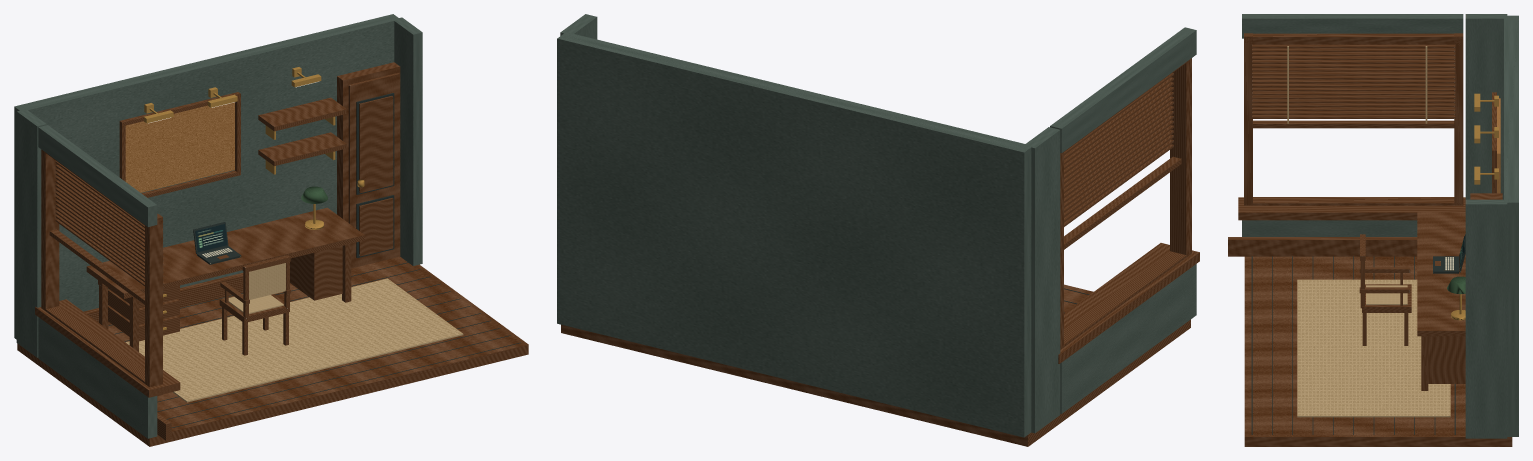
The model's file is workspace-night.glb.
3 views of the same model, side by side, from view 1: azimuth 30°, elevation 25°; view 2: azimuth 150°, elevation 25°; view 3: azimuth 270°, elevation 25° (orthographic). The views are drawn at different scales.
Parts seen in each view (by area): view 1: room_back_wall, room_floor, woven_rug, corkboard_back, desk_top, room_side_pier_-2.38, room_side_pier_2.38, window_wall_lower, door_leaf, window_wall_header, door_panel_1.46, window_jamb_2.73 (+21 smaller); view 2: room_back_wall, room_side_pier_-2.38, window_wall_lower, room_floor, window_wall_header, window_jamb_2.73, window_sill, window_frame_0.58, window_mullion, window_jamb_0.45; view 3: room_floor, woven_rug, room_side_pier_2.38, room_side_pier_-2.38, room_back_wall, desk_top, window_wall_header, side_skirting, window_sill, window_wall_lower, window_frame_2.57, desk_right_cabinet (+30 smaller).
Boxes of the visible parts, x1,y1,x2,y2 form: room_back_wall: (14, 14, 399, 339); room_floor: (17, 257, 528, 446); woven_rug: (126, 278, 463, 402); corkboard_back: (125, 102, 234, 192); desk_top: (86, 207, 364, 298); room_side_pier_-2.38: (16, 110, 46, 357); room_side_pier_2.38: (394, 17, 422, 265); window_wall_lower: (38, 317, 157, 438); door_leaf: (348, 73, 399, 267); window_wall_header: (38, 125, 157, 226); door_panel_1.46: (359, 96, 393, 193); window_jamb_2.73: (145, 214, 162, 396); room_back_wall: (557, 32, 1032, 437); room_side_pier_-2.38: (1024, 127, 1060, 433); window_wall_lower: (1060, 264, 1196, 413); room_floor: (561, 284, 1190, 446); window_wall_header: (1050, 27, 1196, 153); window_jamb_2.73: (1170, 58, 1191, 257); window_sill: (1058, 243, 1199, 363); window_frame_0.58: (1060, 251, 1191, 349); window_mullion: (1064, 156, 1181, 249); window_jamb_0.45: (1060, 152, 1063, 348); room_floor: (1244, 256, 1512, 446); woven_rug: (1297, 279, 1450, 417); room_side_pier_2.38: (1465, 199, 1507, 438); room_side_pier_-2.38: (1465, 14, 1507, 199); room_back_wall: (1504, 15, 1518, 436); desk_top: (1417, 212, 1465, 336); window_wall_header: (1242, 14, 1463, 38); side_skirting: (1228, 237, 1417, 256); window_sill: (1238, 197, 1465, 220); window_wall_lower: (1242, 220, 1417, 236); window_frame_2.57: (1244, 33, 1463, 44); desk_right_cabinet: (1428, 336, 1465, 383).
Bounding box in the file's own units: 4.89 × 2.92 × 3.15.
Materials: 11 (10 with a texture image).
